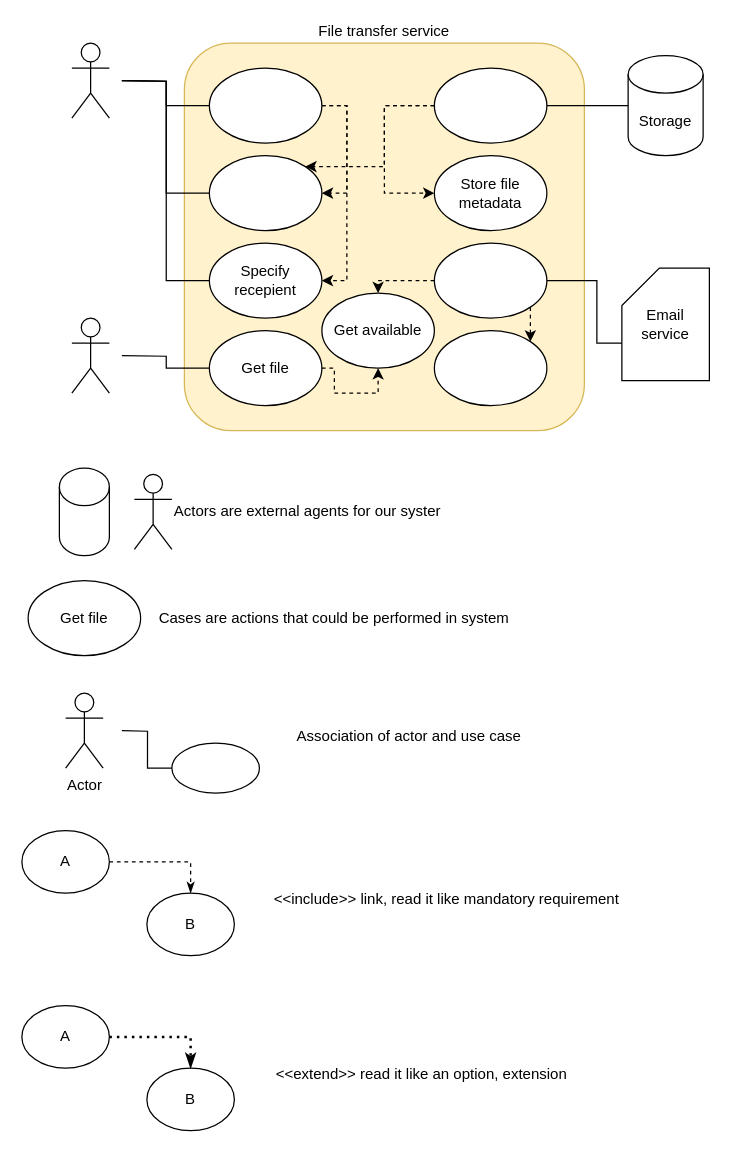
The diagram is 731 pixels wide and 1153 high, and some of its shapes have lost their labels. Here are the shapes that lost their labels. From the top down, the centre of each, then its label:
At (x=90, y=80): "Sender".
At (x=265, y=105): "Send file".
At (x=490, y=105): "Store file".
At (x=265, y=192): "Upload files".
At (x=490, y=280): "Send email".
At (x=90, y=355): "Recepient".
At (x=490, y=367): "Get file list".
